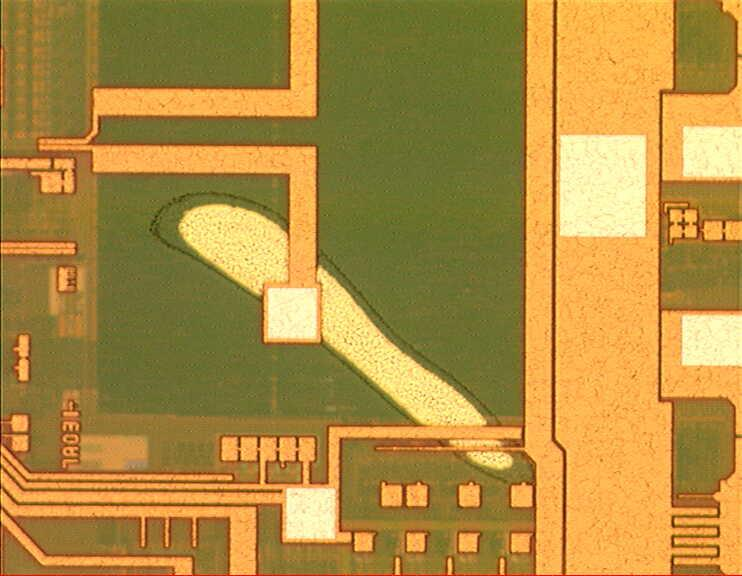BLOCK ETCH: (152, 192, 539, 490)
